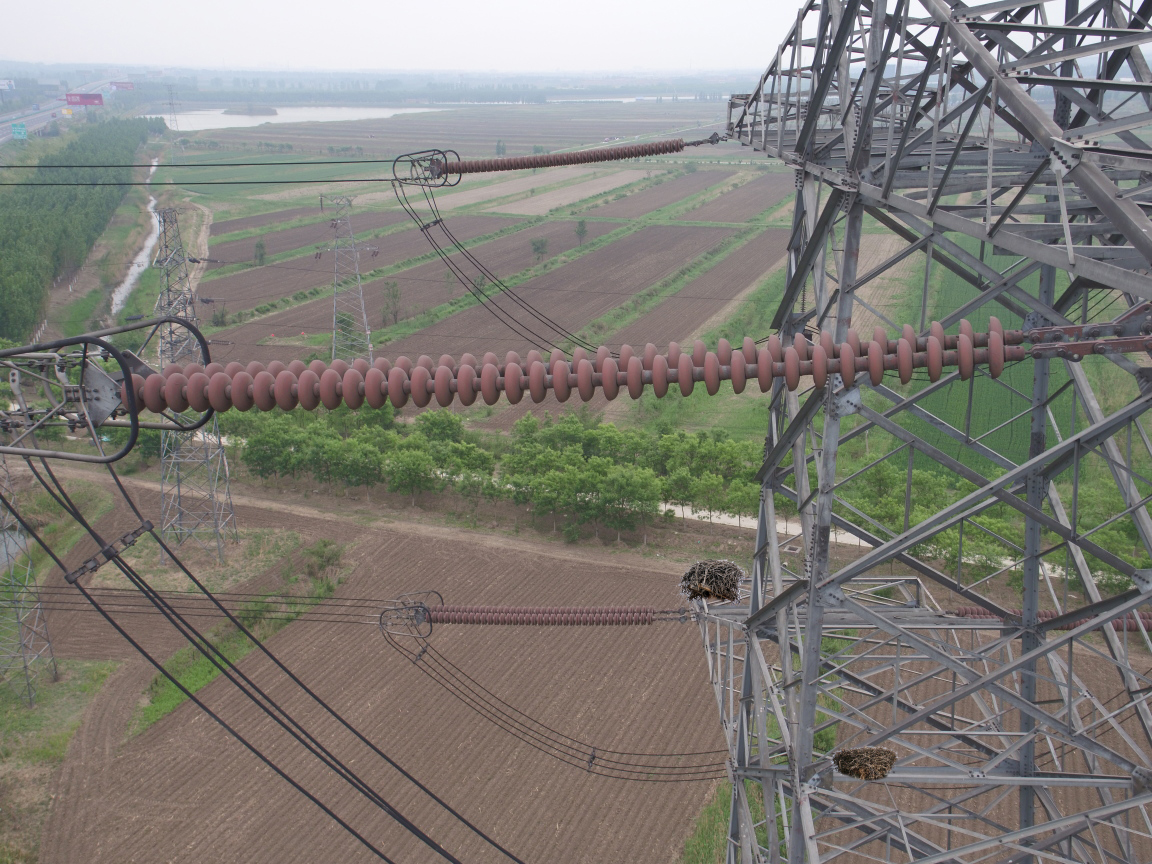nest: (674, 560, 748, 599), (828, 744, 898, 782)
